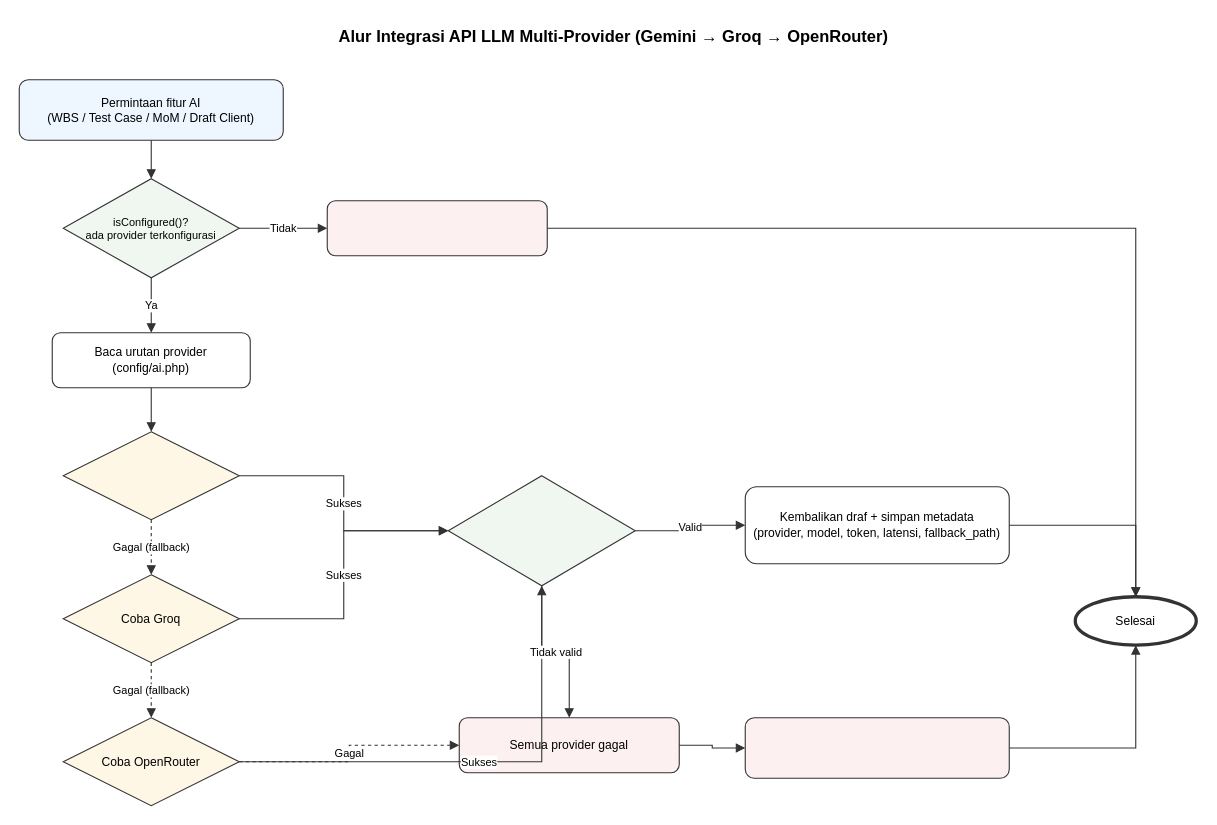
Some shapes in this 1217 by 825 pixel diagram are drawn without their labels. Here are the shapes that lost their labels. From the top down, the box of each, then its label:
(326, 200, 547, 256): Tampilkan: AI belum dikonfigurasi
(62, 431, 239, 520): Coba Gemini
(447, 475, 635, 586): Parse & validasi respons
(744, 717, 1009, 778): Tampilkan pesan ramah + catat status gagal (metadata aman)
